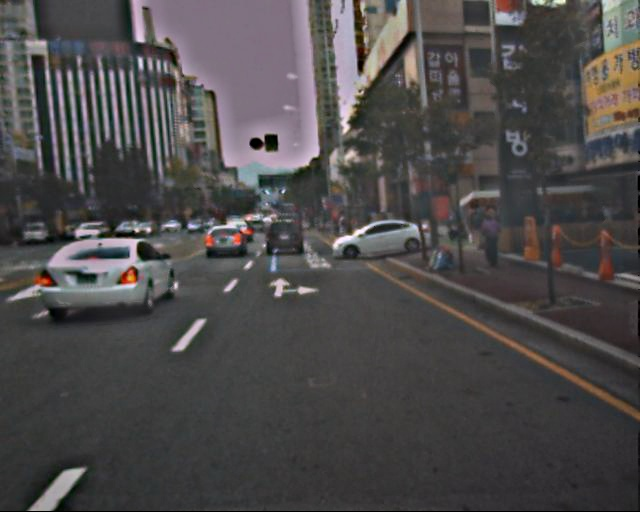person: (478, 205, 508, 272), (468, 197, 490, 251)
